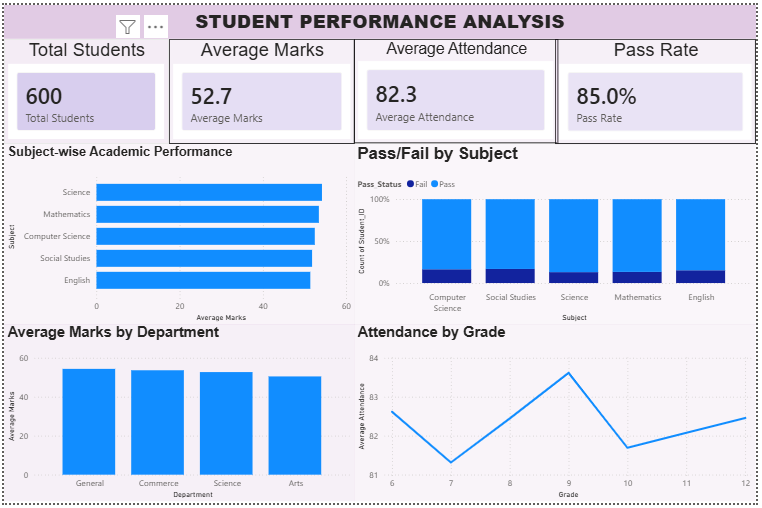

Layout of this report page (visuals, bound fields, positions):
{"tool":"powerbi","page":{"name":"Student_Performance","canvas":[1091,723],"ordinal":1},"visuals":[{"type":"textbox","box":[0,0,1089.9,49.3],"z":0},{"type":"cardVisual","title":"Total Students ","fields":{"Data":["Student_Performance.Total Students"]},"box":[0,49.7,238.7,151.8],"z":1000},{"type":"cardVisual","title":"Average Attendance ","fields":{"Data":["Student_Performance.Average Attendance"]},"box":[507.9,49.5,295.9,151.4],"z":2000},{"type":"cardVisual","title":"Pass Rate ","fields":{"Data":["Student_Performance.Pass Rate"]},"box":[798.6,49.3,291.3,152.2],"z":3000},{"type":"cardVisual","title":"Average Marks","fields":{"Data":["Student_Performance.Average Marks"]},"box":[238.7,49.7,269,151.8],"z":4000},{"type":"clusteredBarChart","title":"Subject-wise Academic Performance ","fields":{"Category":["Student_Performance.Subject"],"Y":["Student_Performance.Average Marks"]},"box":[0,200.9,507.9,261.5],"z":5000},{"type":"clusteredColumnChart","fields":{"Category":["Student_Performance.Department"],"Y":["Student_Performance.Average Marks"]},"box":[0,462.5,507.9,257.4],"z":6000},{"type":"lineChart","title":"Attendance by Grade","fields":{"Category":["Student_Performance.Grade"],"Y":["Student_Performance.Average Attendance"]},"box":[507.9,462.5,582.2,257.4],"z":7000},{"type":"hundredPercentStackedColumnChart","title":"Pass/Fail by Subject","fields":{"Category":["Student_Performance.Subject"],"Series":["Student_Performance.Pass_Status"],"Y":["CountNonNull(Student_Performance.Student_ID)"]},"box":[507.9,200.9,582.2,261.5],"z":8000}]}

Visuals, with their boxes in screenshot pixels (x1, y1, x2, y2), scaled from the page's 1091x723 canvas onto the 762x508 screenshot:
textbox: box=[0, 0, 761, 35]
"Total Students " cardVisual: box=[0, 35, 167, 142]
"Average Attendance " cardVisual: box=[355, 35, 561, 141]
"Pass Rate " cardVisual: box=[558, 35, 761, 142]
"Average Marks" cardVisual: box=[167, 35, 355, 142]
"Subject-wise Academic Performance " clusteredBarChart: box=[0, 141, 355, 325]
clusteredColumnChart - Student_Performance.Department x Student_Performance.Average Marks: box=[0, 325, 355, 506]
"Attendance by Grade" lineChart: box=[355, 325, 761, 506]
"Pass/Fail by Subject" hundredPercentStackedColumnChart: box=[355, 141, 761, 325]
